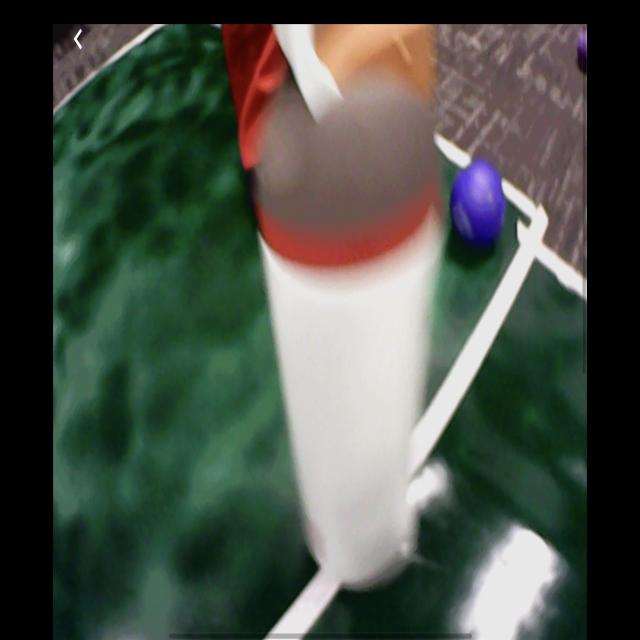ball: (451, 161, 507, 251), (578, 37, 588, 73)
